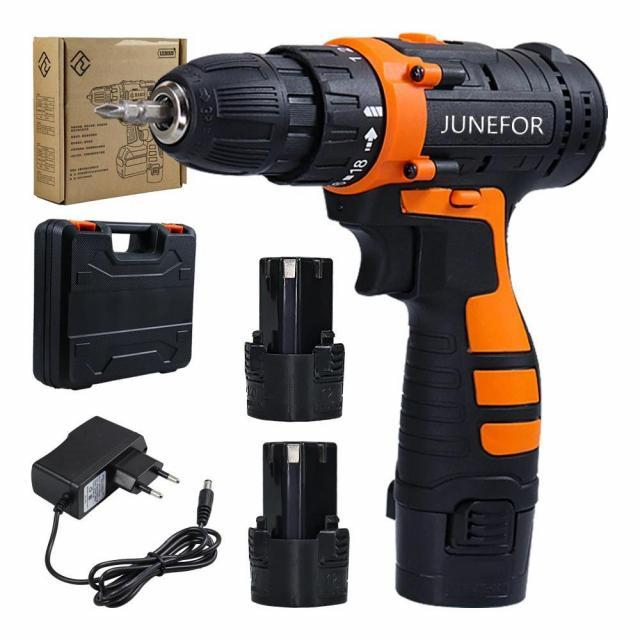drill: (91, 32, 608, 608)
